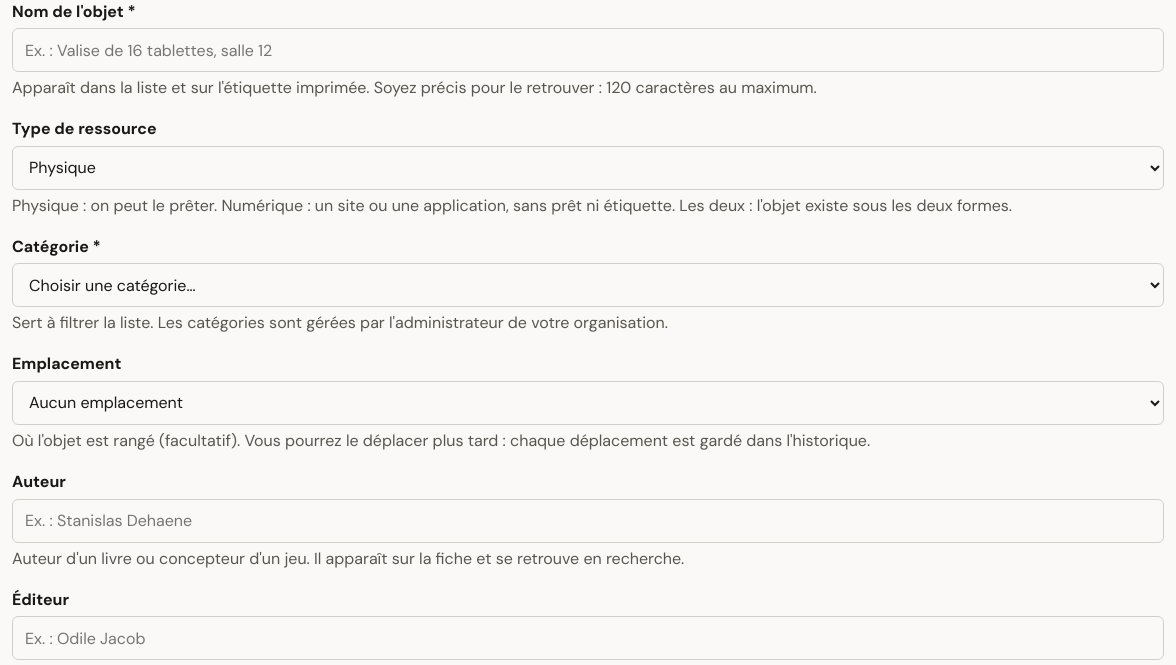
Test case: Formulaire : fiche enrichie › refuse un ISBN invalide avant tout appel réseau
Type "Les neurones de la lecture" into the field labelled "Nom de l'objet *" at (588, 50), box [12,28,1164,72]
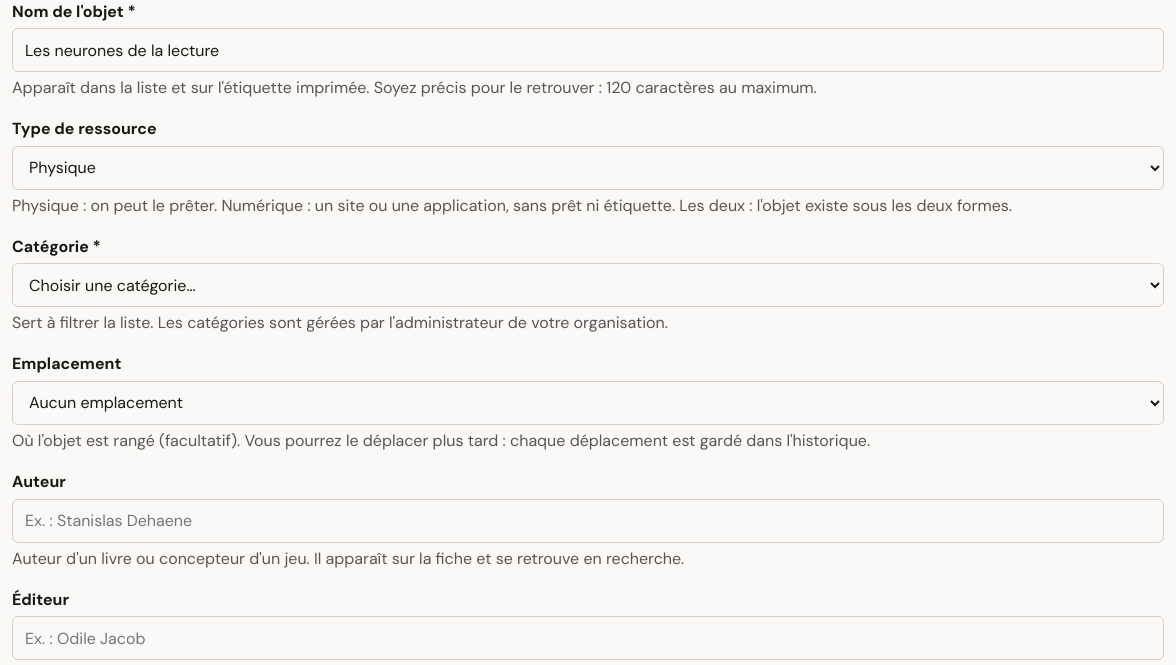
Select "Tablettes" in the dropdown labelled "Catégorie *" at (588, 285), box [12,263,1164,307]
(page scrolled)
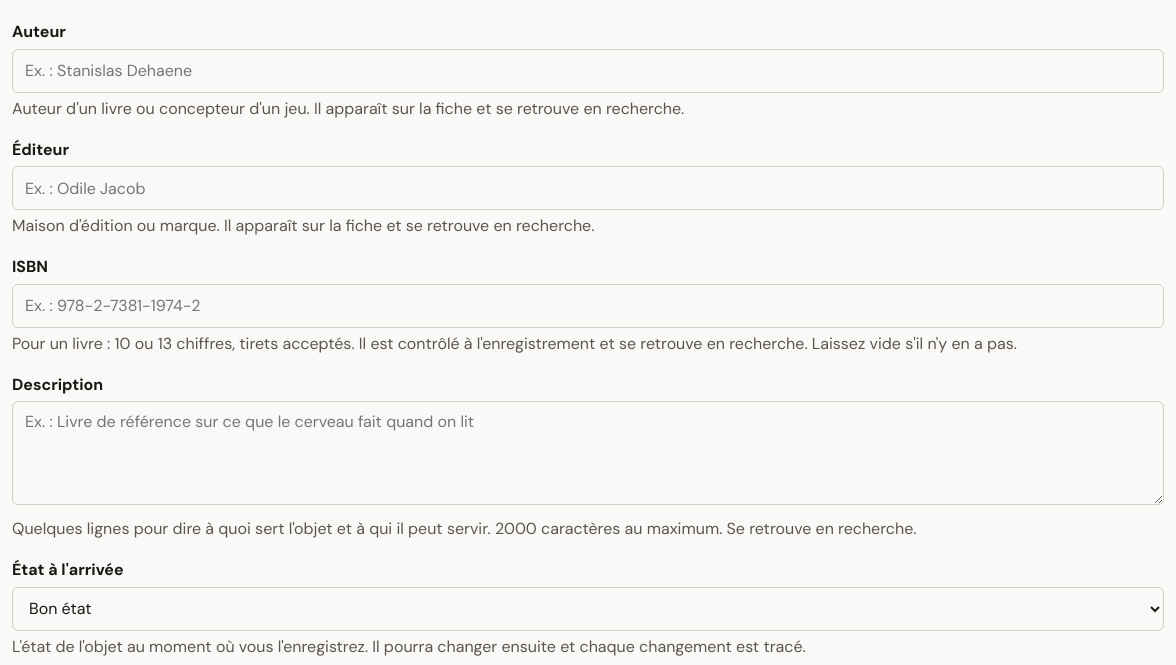
Type "123" into the field labelled "ISBN" at (588, 306), box [12,284,1164,328]
(page scrolled)
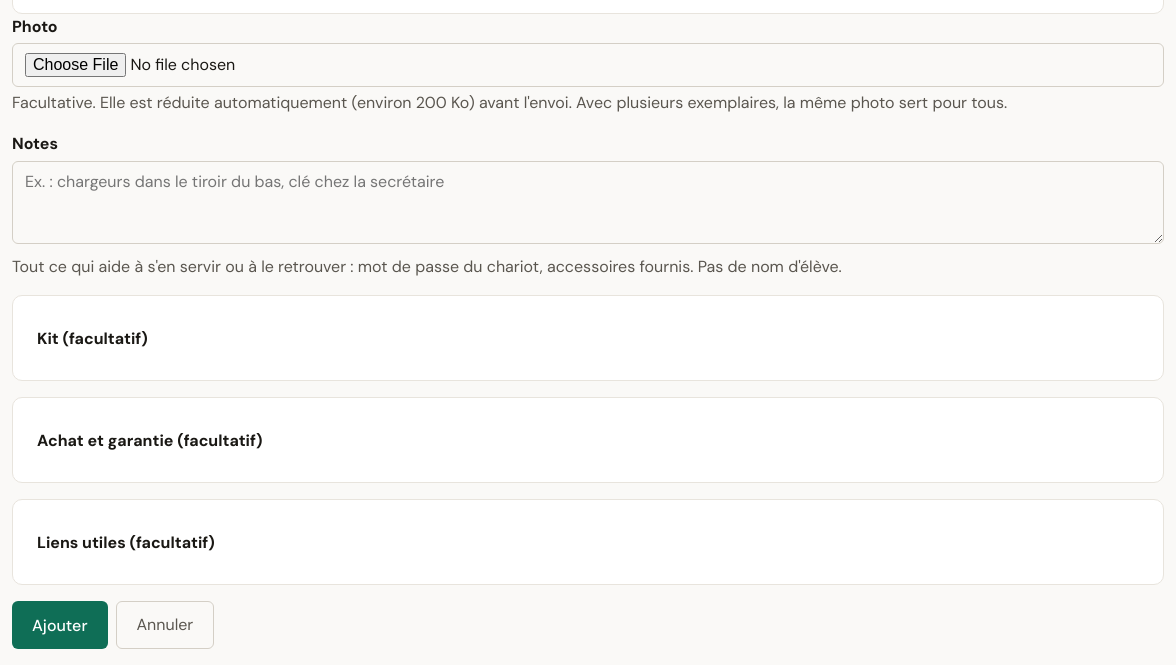
Click the button "Ajouter" at (60, 625), box [12,602,108,649]
(page scrolled)
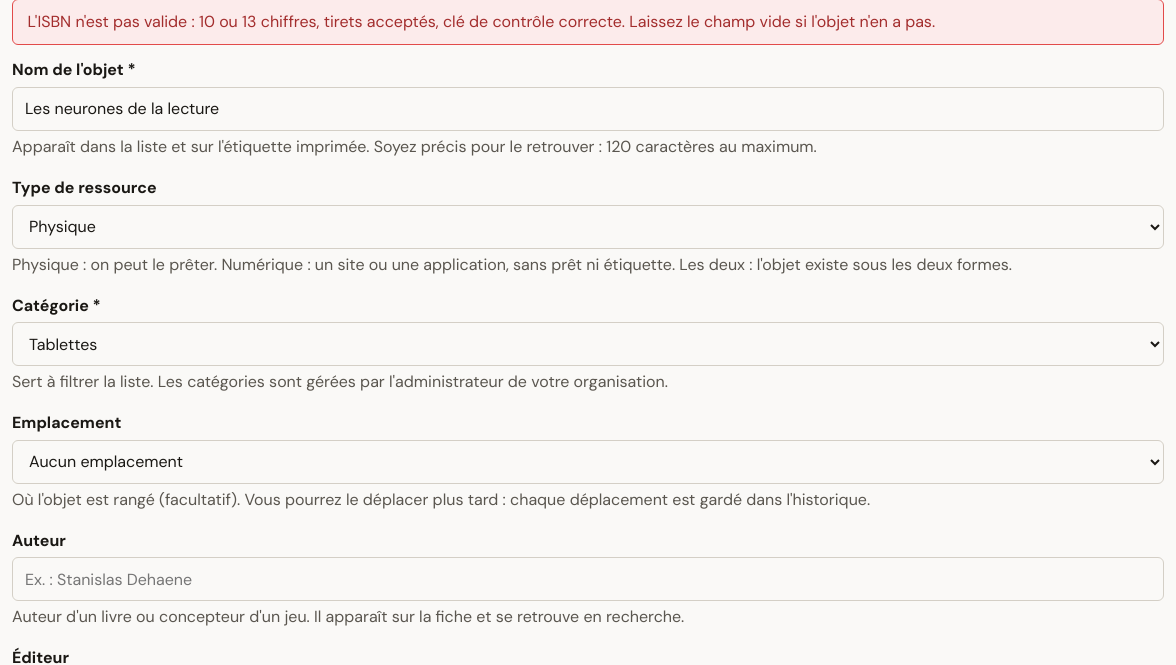
Expected: the message shows "ISBN", [27,11,935,32]
